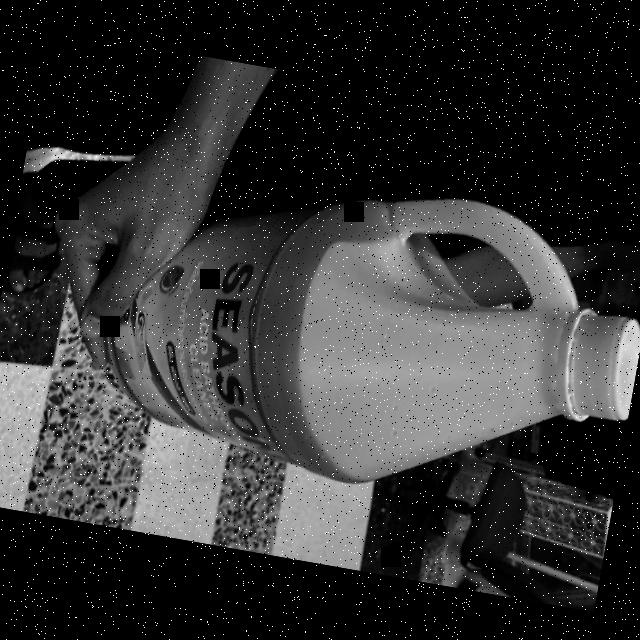chemical_plastic_gallon: (76, 127, 640, 530)
